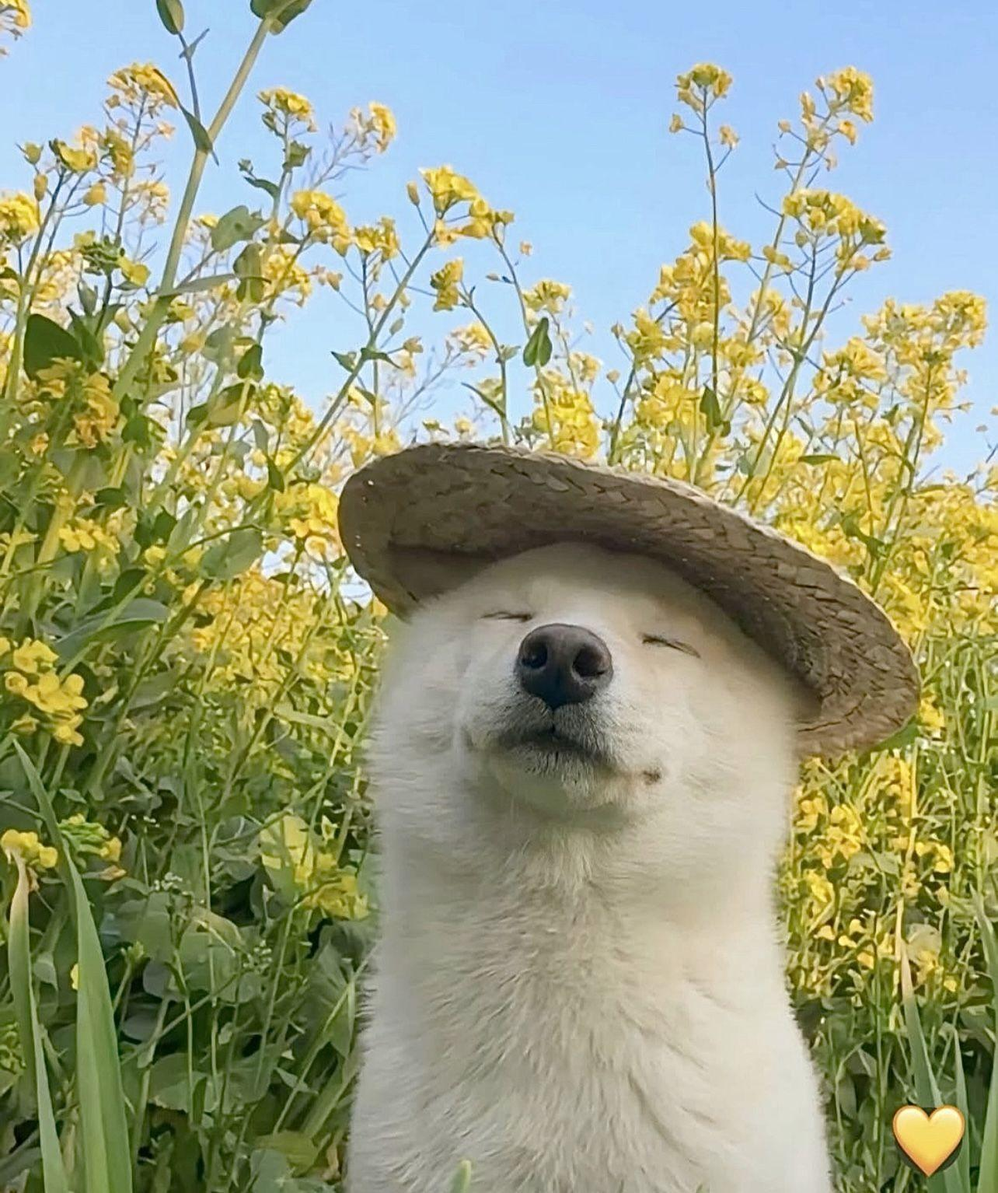adult_dog: (340, 544, 837, 1193)
